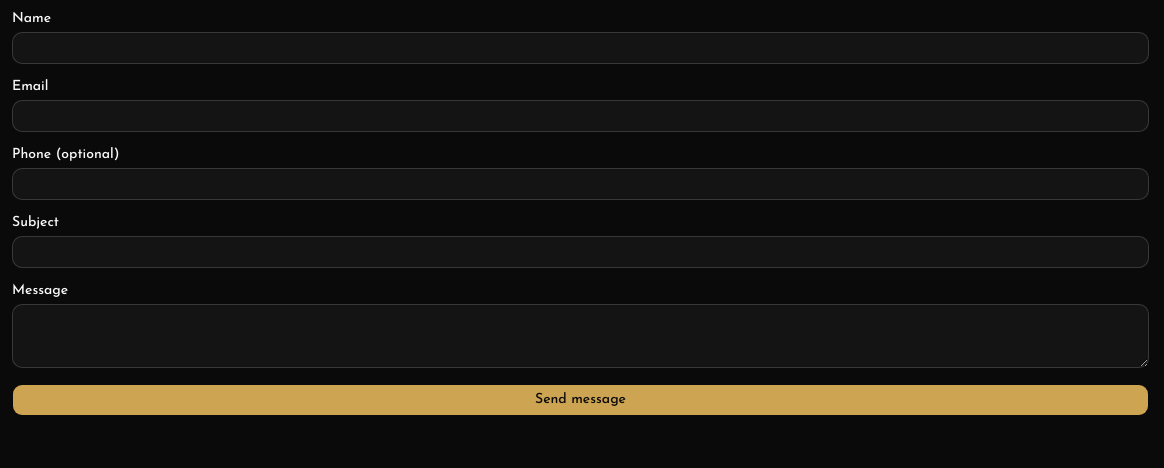
Test: ContactScreen › falls back to a generic message for a non-ConvexError failure
Type "Jamie Alder" into the field labelled "Name" at (580, 48), box [12, 32, 1149, 64]
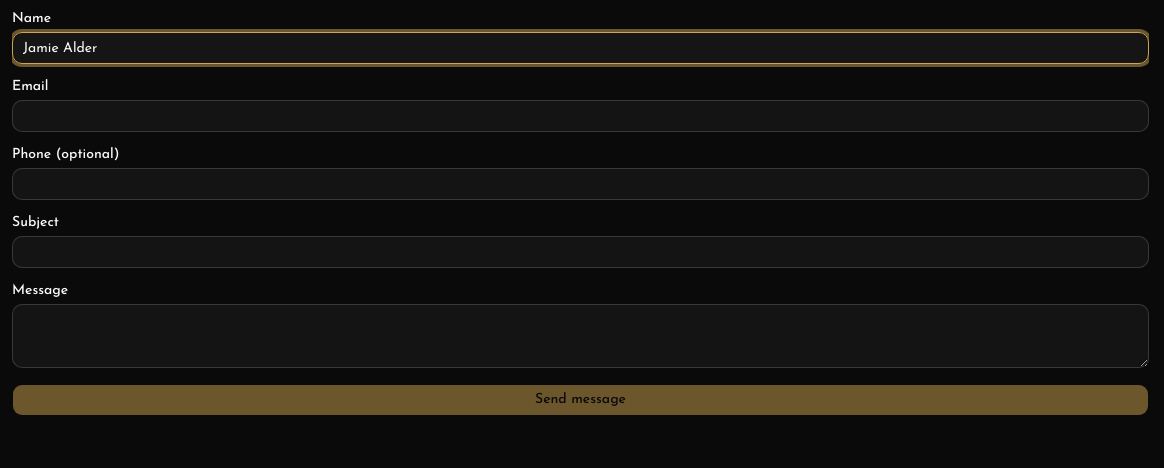
Type "jamie@example.com" into the field labelled "Email" at (580, 116), box [12, 100, 1149, 132]
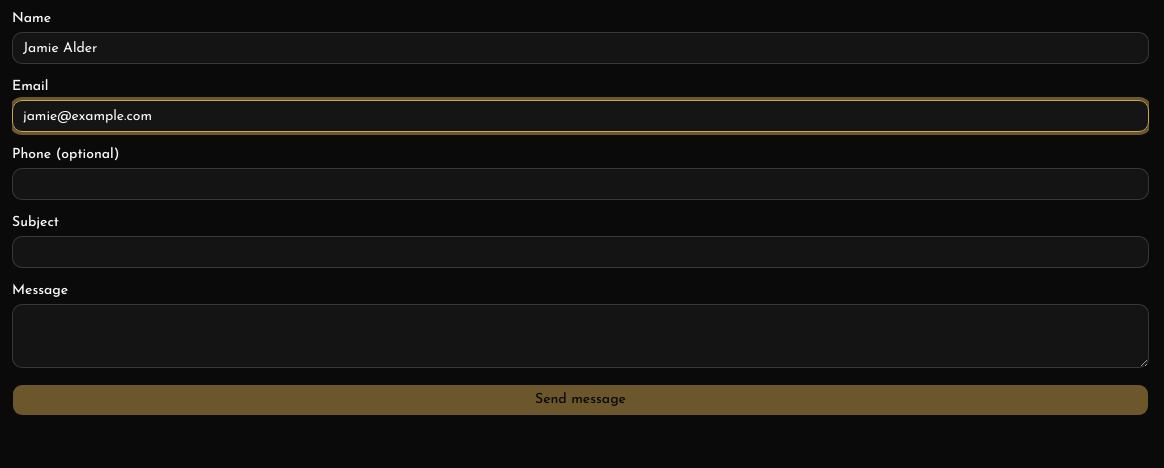
Type "Question about a cabin" into the field labelled "Subject" at (580, 252), box [12, 236, 1149, 268]
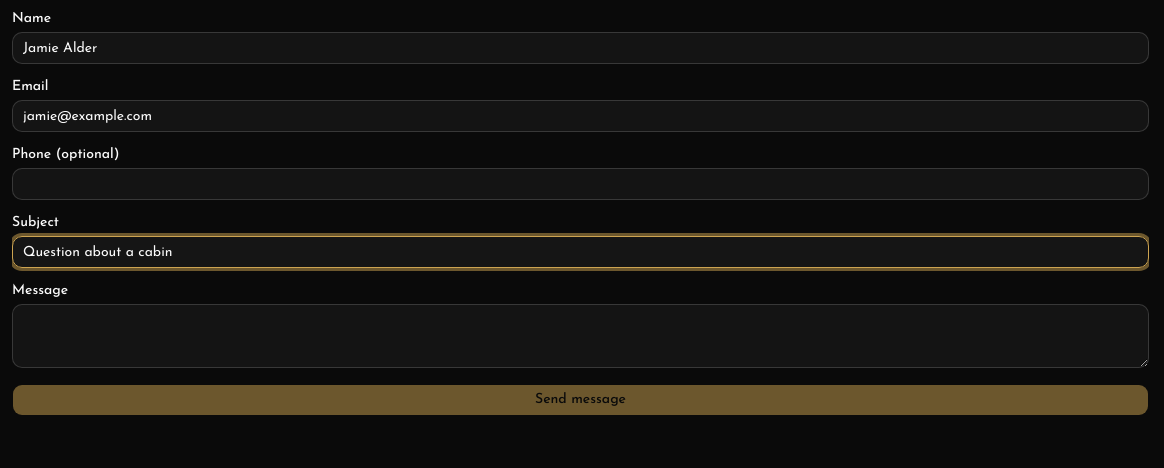
Type "Is Hidden Creek pet-friendly?" into the text box labelled "Message" at (580, 336), box [12, 304, 1149, 368]
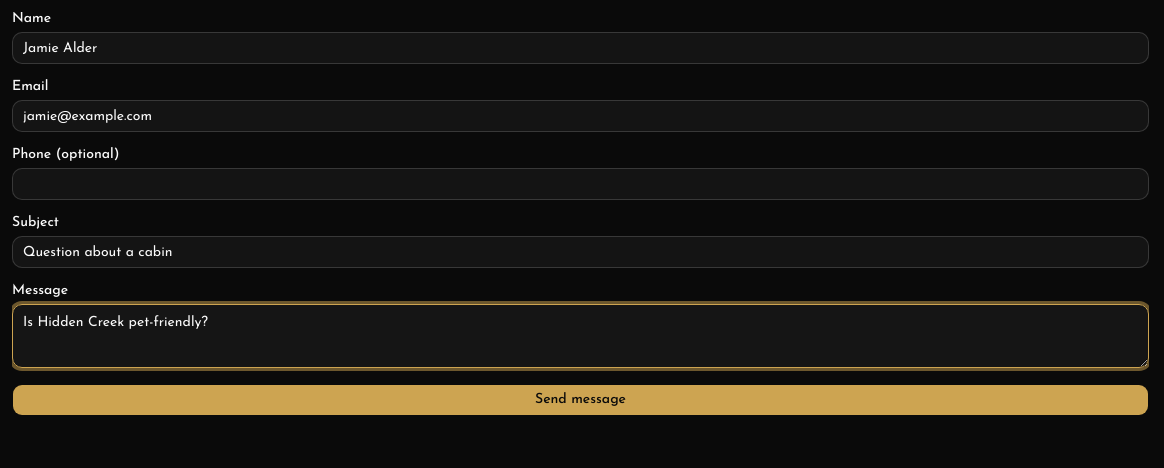
Click the button "Send message" at (580, 400), box [12, 384, 1149, 416]
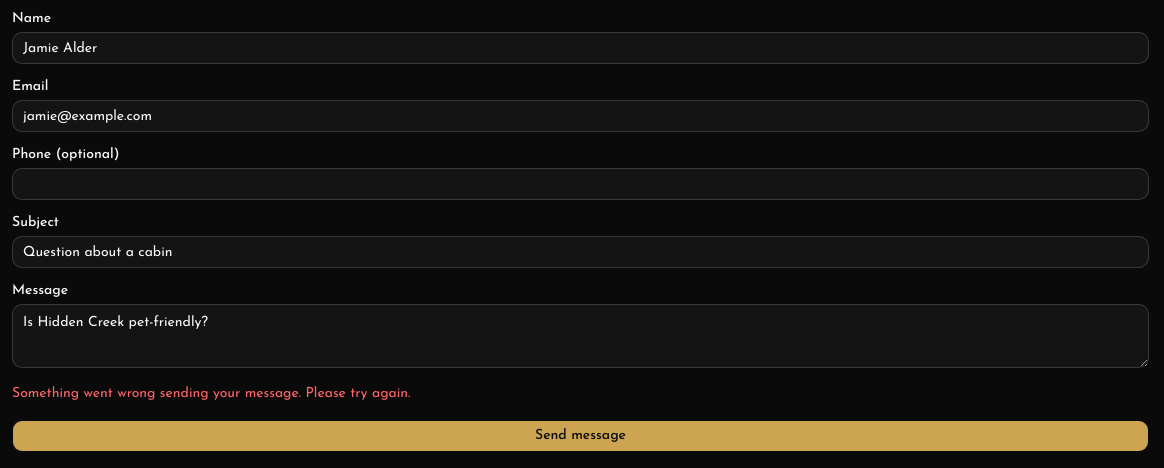
Expected: the text "Something went wrong sending your message. Please try again." is shown, [12, 386, 410, 401]
